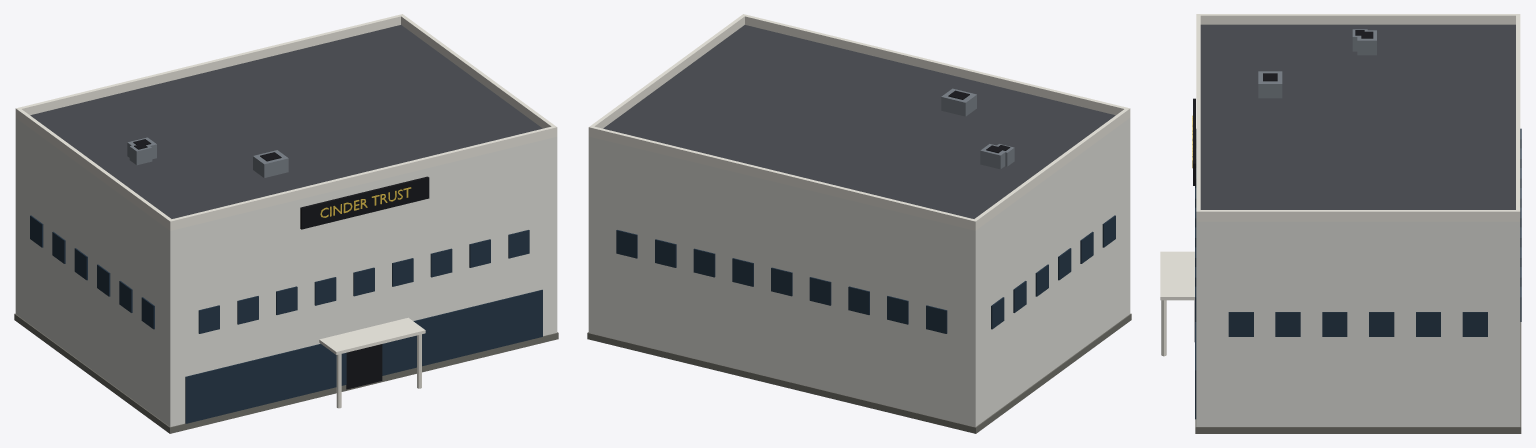
File: bank.glb
3 renders of one model, left to right at view 1: azimuth 30°, elevation 25°; view 2: azimuth 150°, elevation 25°; view 3: azimuth 270°, elevation 25°, orthographic. The views are drawn at different scales.
Parts seen in each view (by area): view 1: bank_Body, bank_SignBoard; view 2: bank_Body; view 3: bank_Body.
Boxes of the visible parts, x1,y1,x2,y2 form: bank_Body: (14,14,558,433); bank_SignBoard: (300,176,429,229); bank_Body: (587,14,1131,433); bank_Body: (1160,14,1521,433).
Bounding box in the file's own units: 26.16 × 13.99 × 20.08.
